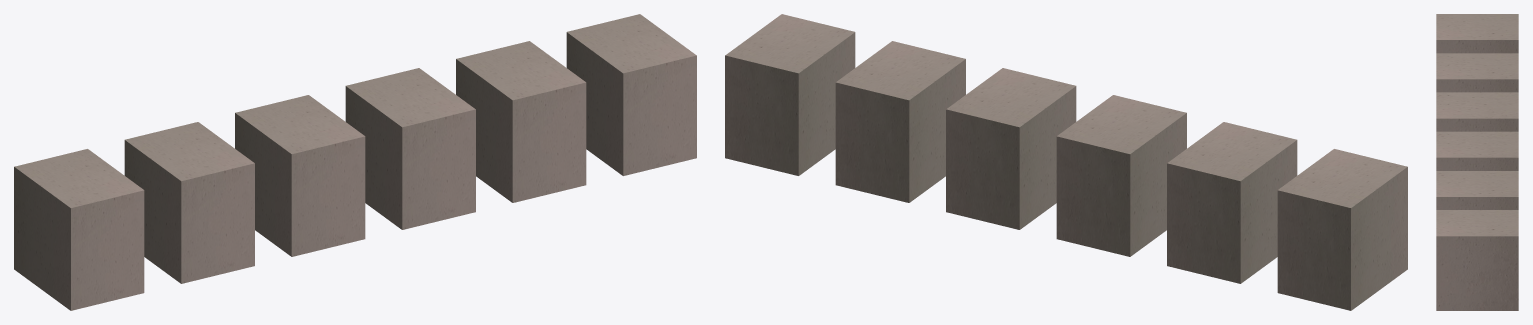
File: Tecla2.obj
3 renders of one model, left to right at view 1: azimuth 30°, elevation 25°; view 2: azimuth 150°, elevation 25°; view 3: azimuth 270°, elevation 25°, orthographic. The views are drawn at different scales.
Visible parts, largest first — view 1: Tecla_1.002; view 2: Tecla_1.002; view 3: Tecla_1.002.
Part boxes in pixels (<box>): Tecla_1.002: <box>14,14,696,310</box>; Tecla_1.002: <box>725,14,1407,310</box>; Tecla_1.002: <box>1436,14,1518,310</box>.
Bounding box in the file's own units: 0.8271 × 0.1297 × 0.1297.
